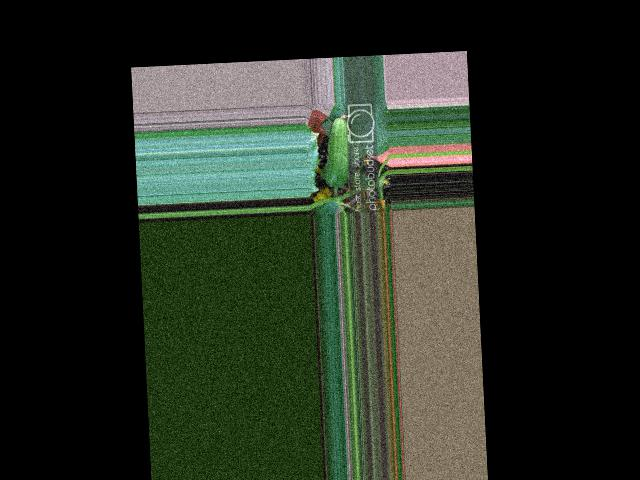cucumber: (322, 116, 353, 186)
